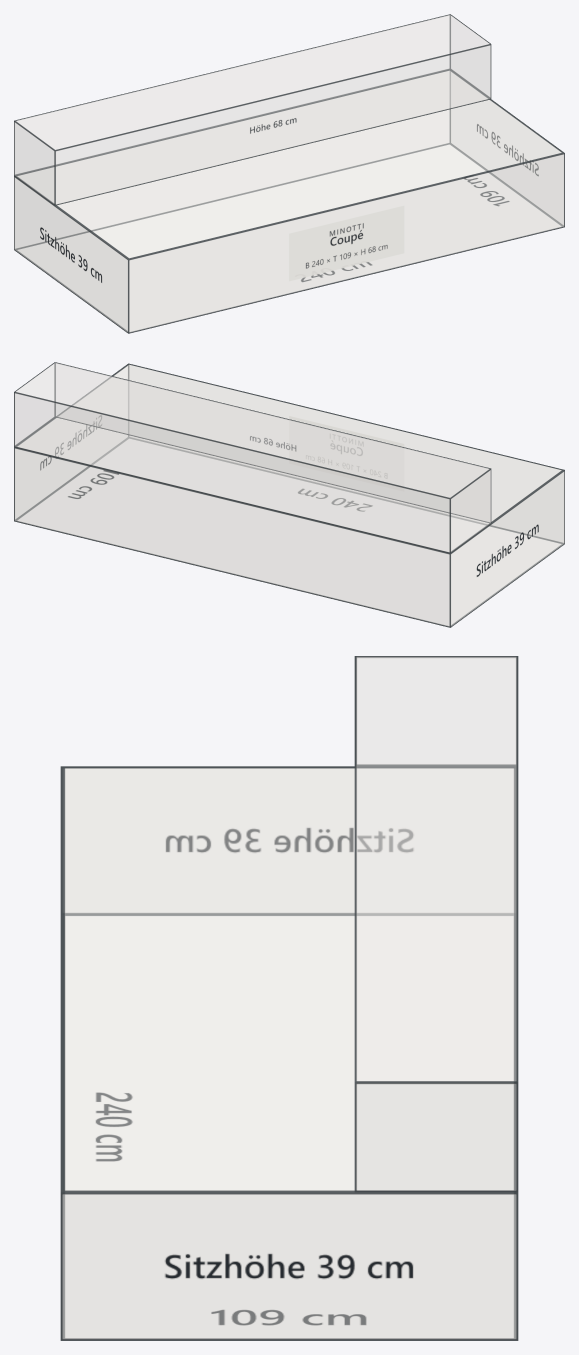
The model's file is tables-coupe-tables-2--sofa-240-cm.glb.
The picture shows the model from 3 angles, top to bottom: view 1: azimuth 30°, elevation 25°; view 2: azimuth 150°, elevation 25°; view 3: azimuth 270°, elevation 25°; orthographic projection. The views are drawn at different scales.
Parts seen in each view (by area): view 1: sitz_oben, Grundflaeche, sitz_vorne, sitz_hinten, ruecken_vorne, ruecken_hinten, ruecken_oben, sitz_links, sitz_rechts, ruecken_links, ruecken_rechts; view 2: Grundflaeche, sitz_oben, sitz_hinten, ruecken_hinten, ruecken_vorne, ruecken_oben, sitz_vorne, sitz_links, sitz_rechts, ruecken_links, ruecken_rechts; view 3: sitz_oben, Grundflaeche, ruecken_oben, sitz_rechts, sitz_links, ruecken_rechts, ruecken_links.
Part boxes in pixels (left/top/right/bottom): sitz_oben: left=15, top=69, right=564, bottom=259; Grundflaeche: left=15, top=143, right=563, bottom=332; sitz_vorne: left=128, top=153, right=564, bottom=333; sitz_hinten: left=14, top=71, right=450, bottom=249; ruecken_vorne: left=55, top=44, right=491, bottom=205; ruecken_hinten: left=14, top=15, right=450, bottom=175; ruecken_oben: left=14, top=14, right=490, bottom=150; sitz_links: left=14, top=176, right=128, bottom=333; sitz_rechts: left=450, top=72, right=563, bottom=225; ruecken_links: left=14, top=121, right=54, bottom=205; ruecken_rechts: left=450, top=15, right=490, bottom=97; Grundflaeche: left=15, top=437, right=563, bottom=626; sitz_oben: left=15, top=363, right=564, bottom=552; sitz_hinten: left=14, top=447, right=450, bottom=627; ruecken_hinten: left=14, top=392, right=450, bottom=553; ruecken_vorne: left=55, top=362, right=490, bottom=523; ruecken_oben: left=14, top=362, right=490, bottom=498; sitz_vorne: left=128, top=365, right=564, bottom=543; sitz_links: left=450, top=470, right=564, bottom=627; sitz_rechts: left=15, top=366, right=128, bottom=519; ruecken_links: left=450, top=469, right=491, bottom=553; ruecken_rechts: left=15, top=363, right=54, bottom=445; sitz_oben: left=60, top=766, right=516, bottom=1192; Grundflaeche: left=62, top=914, right=516, bottom=1338; ruecken_oben: left=354, top=656, right=518, bottom=1081; sitz_rechts: left=60, top=1192, right=518, bottom=1340; sitz_links: left=65, top=768, right=513, bottom=913; ruecken_rechts: left=354, top=1082, right=518, bottom=1192; ruecken_links: left=356, top=657, right=516, bottom=766.
Size of the model in its own units: 2.4 by 0.68 by 1.09.
11 materials, 11 textured.
